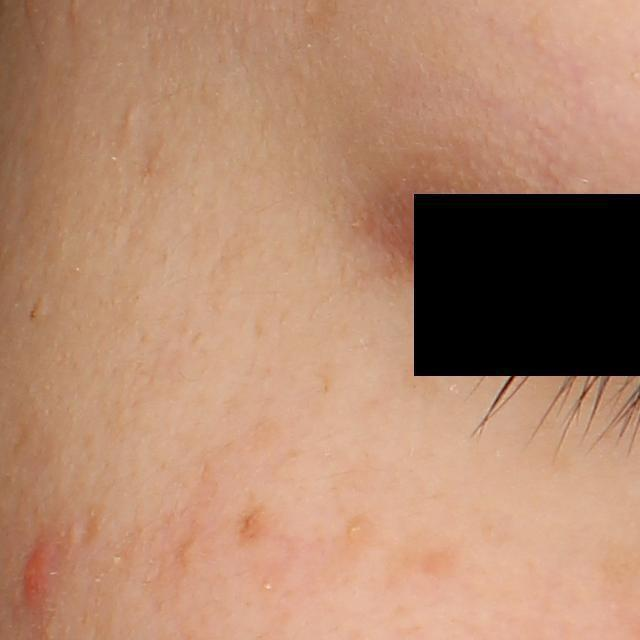comedo: (123, 103, 140, 130)
melasma: (402, 360, 438, 409)
papule: (16, 539, 65, 614)
